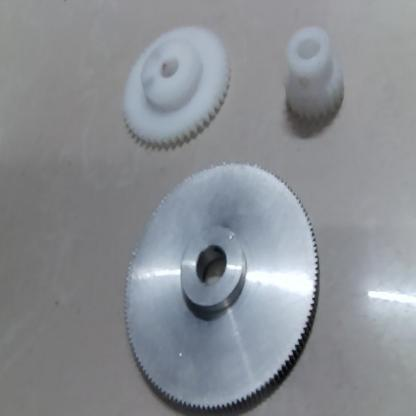FOD: (121, 158, 320, 412), (118, 26, 233, 155), (274, 21, 348, 132)
